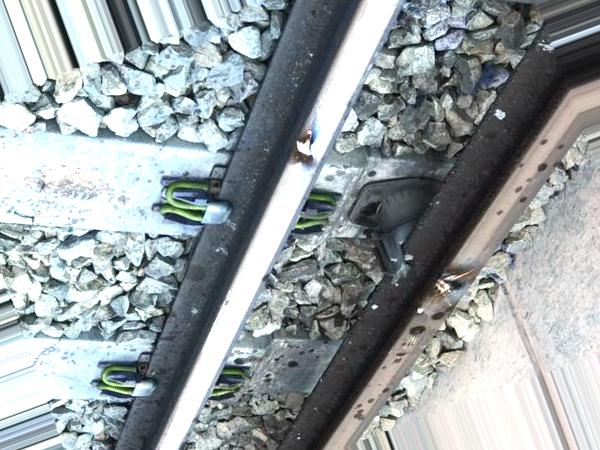tracks_fault: (263, 103, 384, 218), (411, 213, 484, 389)
